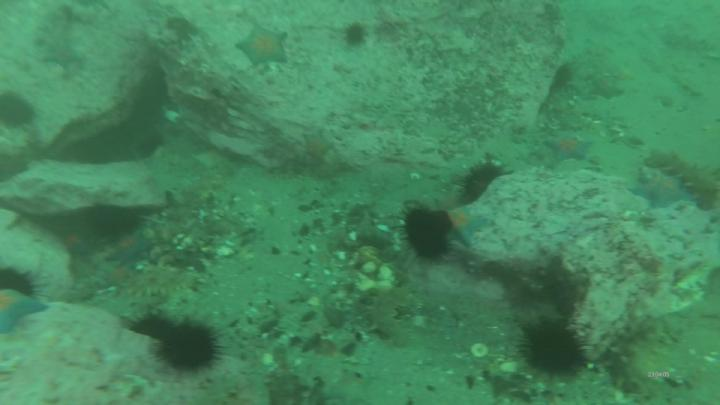echinus: (524, 325, 582, 374), (408, 211, 450, 259), (166, 330, 215, 371), (87, 206, 135, 247), (462, 166, 497, 201), (128, 317, 175, 337), (1, 99, 32, 126), (2, 272, 30, 298), (135, 134, 164, 157), (344, 27, 363, 46)
holothurian: (606, 319, 665, 398), (647, 150, 719, 210), (366, 287, 408, 349), (126, 266, 193, 295)
starfish: (236, 25, 290, 66), (630, 173, 694, 206), (1, 298, 46, 334), (107, 237, 152, 267), (450, 211, 486, 246), (549, 134, 589, 161), (59, 229, 91, 257), (302, 134, 334, 162), (589, 78, 626, 101), (47, 44, 81, 69)
